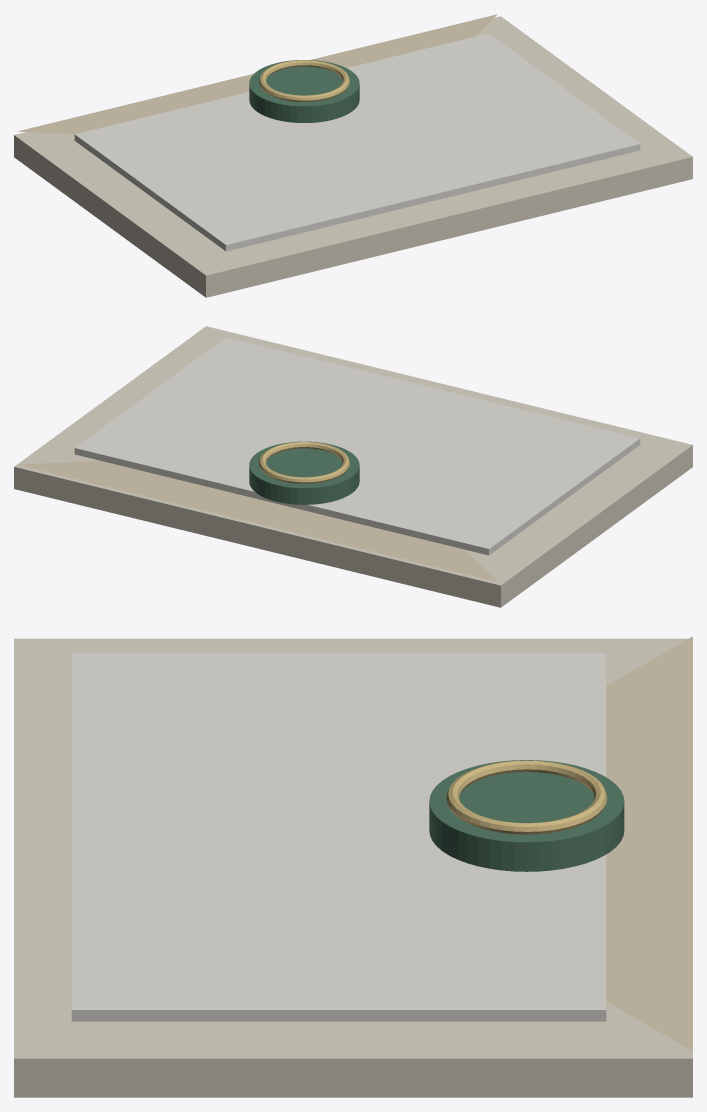
File: envelope-prop.glb
The picture shows the model from 3 angles, top to bottom: view 1: azimuth 30°, elevation 25°; view 2: azimuth 150°, elevation 25°; view 3: azimuth 270°, elevation 25°; orthographic projection. The views are drawn at different scales.
Visible parts, largest first — view 1: InvitationCard, EnvelopeBody, EnvelopeFlap, WaxSeal, SealGoldRing; view 2: InvitationCard, EnvelopeBody, EnvelopeFlap, WaxSeal, SealGoldRing; view 3: InvitationCard, EnvelopeBody, EnvelopeFlap, WaxSeal, SealGoldRing.
Part boxes in pixels (bbox=[...]): InvitationCard: bbox=[74, 33, 640, 251]; EnvelopeBody: bbox=[14, 16, 692, 297]; EnvelopeFlap: bbox=[17, 14, 497, 134]; WaxSeal: bbox=[249, 60, 359, 122]; SealGoldRing: bbox=[259, 60, 349, 101]; InvitationCard: bbox=[74, 337, 640, 555]; EnvelopeBody: bbox=[14, 326, 692, 607]; EnvelopeFlap: bbox=[17, 460, 497, 581]; WaxSeal: bbox=[249, 441, 359, 504]; SealGoldRing: bbox=[259, 442, 349, 483]; InvitationCard: bbox=[71, 653, 606, 1021]; EnvelopeBody: bbox=[14, 638, 692, 1097]; EnvelopeFlap: bbox=[606, 636, 692, 1050]; WaxSeal: bbox=[429, 760, 624, 871]; SealGoldRing: bbox=[446, 760, 607, 834].
Size of the model in its own units: 2.75 by 0.293 by 1.88.
